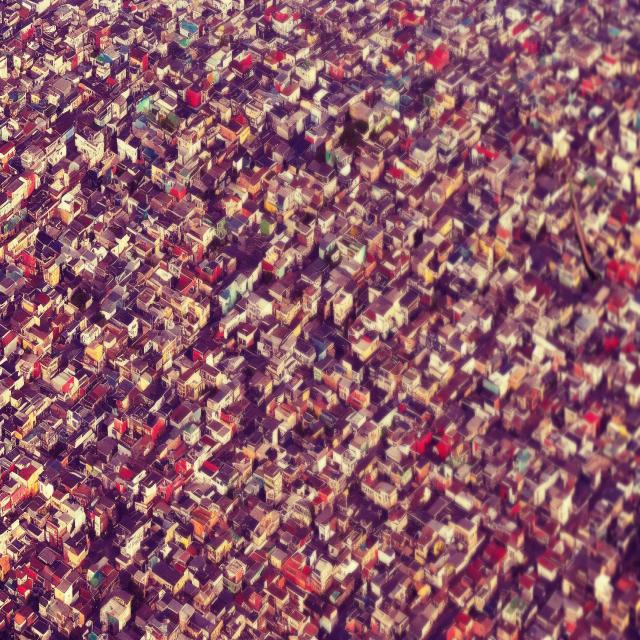airplane: (568, 188, 602, 286)
